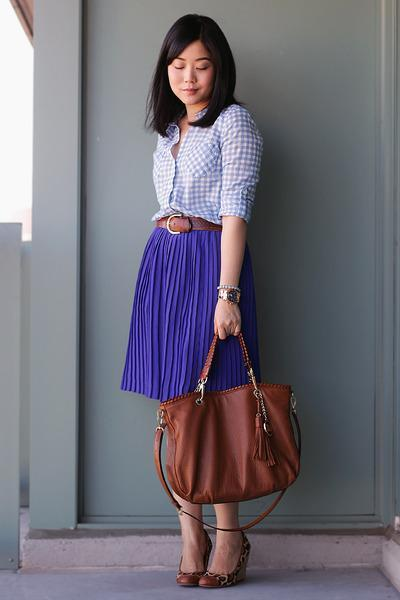bag: (138, 348, 300, 509)
shirt: (147, 105, 257, 223)
shoe: (176, 541, 254, 588)
skirt: (121, 227, 263, 402)
